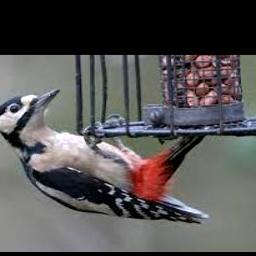Woodpecker: (0, 88, 209, 224)
